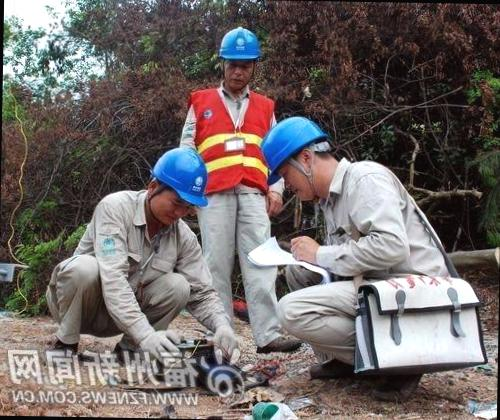helmet: (259, 111, 324, 179), (150, 145, 207, 208), (216, 26, 258, 63)
person: (258, 116, 462, 404), (173, 26, 281, 342), (50, 144, 208, 350)
